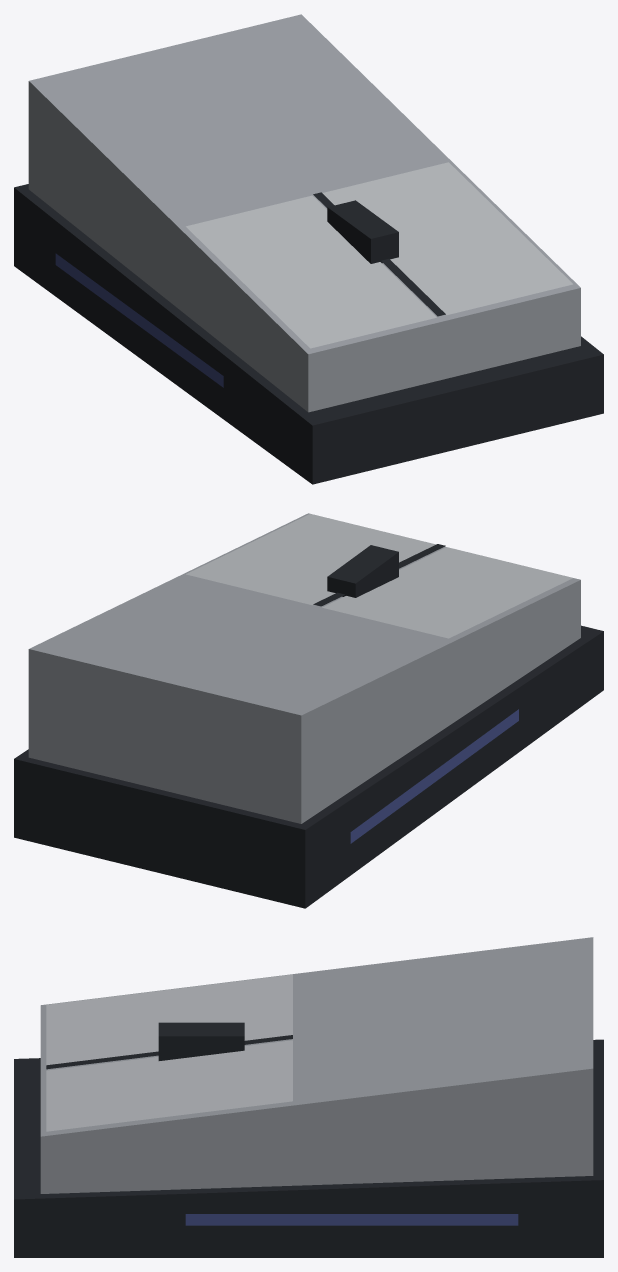
File: Client_Mouse.glb
The picture shows the model from 3 angles, top to bottom: view 1: azimuth 30°, elevation 25°; view 2: azimuth 150°, elevation 25°; view 3: azimuth 270°, elevation 25°; orthographic projection.
Parts seen in each view (by area): view 1: Body; view 2: Body; view 3: Body.
Part boxes in pixels (x1=…): Body: x1=14, y1=14, x2=603, y2=484; Body: x1=14, y1=513, x2=603, y2=908; Body: x1=14, y1=937, x2=603, y2=1257.
Bounding box in the file's own units: 0.0628 × 0.038 × 0.11.
